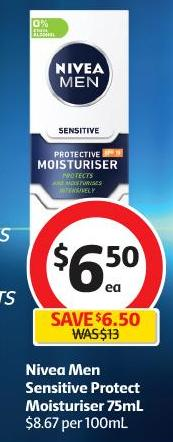description_block: (18, 357, 152, 416)
price_main: (27, 222, 163, 308)
product_image_block: (16, 7, 144, 218)
promo_text_block: (20, 305, 167, 349)
unit_price_block: (7, 410, 137, 439)
